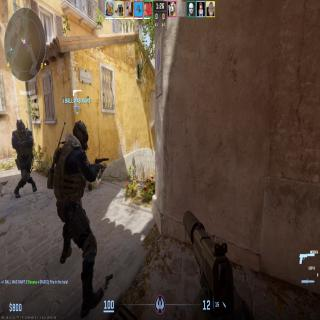CT-Body: (51, 118, 104, 310), (12, 118, 37, 196)
CT-Head: (72, 119, 90, 150), (16, 118, 25, 135)
